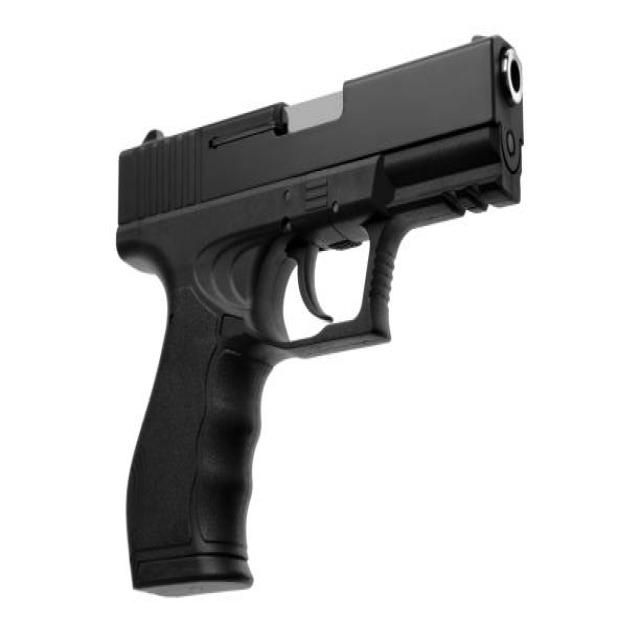pistol: (107, 35, 531, 604)
